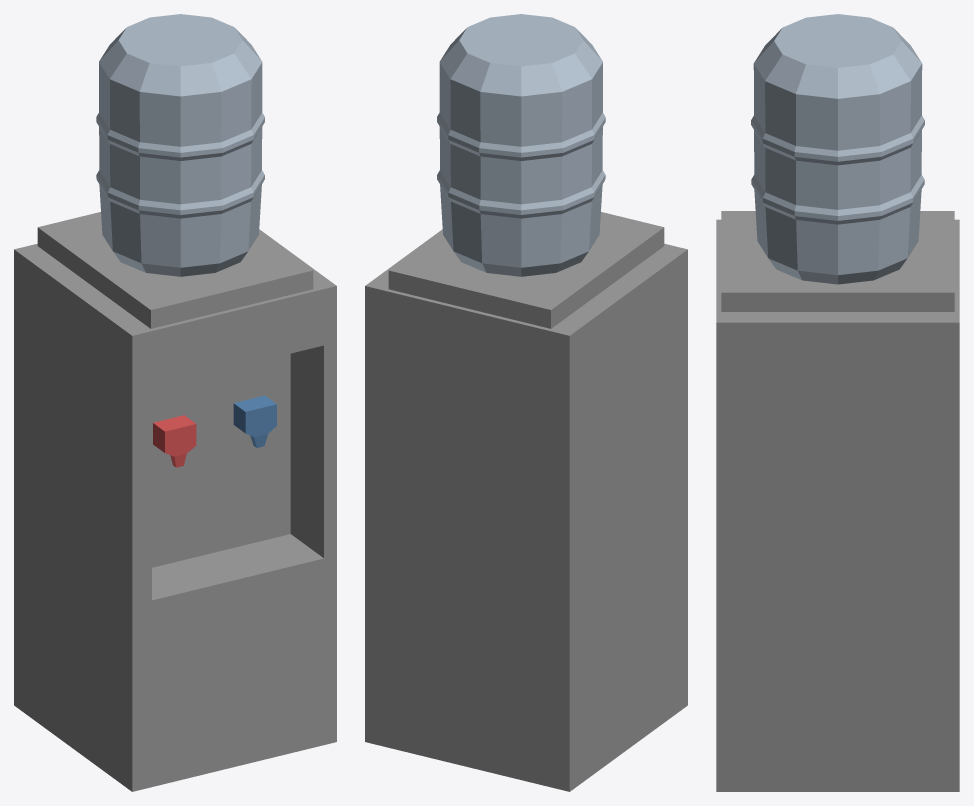
The model's file is WaterBar.fbx.
The picture shows the model from 3 angles, left to right: view 1: azimuth 30°, elevation 25°; view 2: azimuth 150°, elevation 25°; view 3: azimuth 270°, elevation 25°; orthographic projection. The views are drawn at different scales.
Visible parts, largest first — view 1: WaterBar; view 2: WaterBar; view 3: WaterBar.
Boxes of the visible parts, bbox=[...] form: WaterBar: bbox=[14, 14, 336, 791]; WaterBar: bbox=[365, 14, 687, 791]; WaterBar: bbox=[716, 14, 959, 791].
Bounding box in the file's own units: 151 × 482 × 151.
